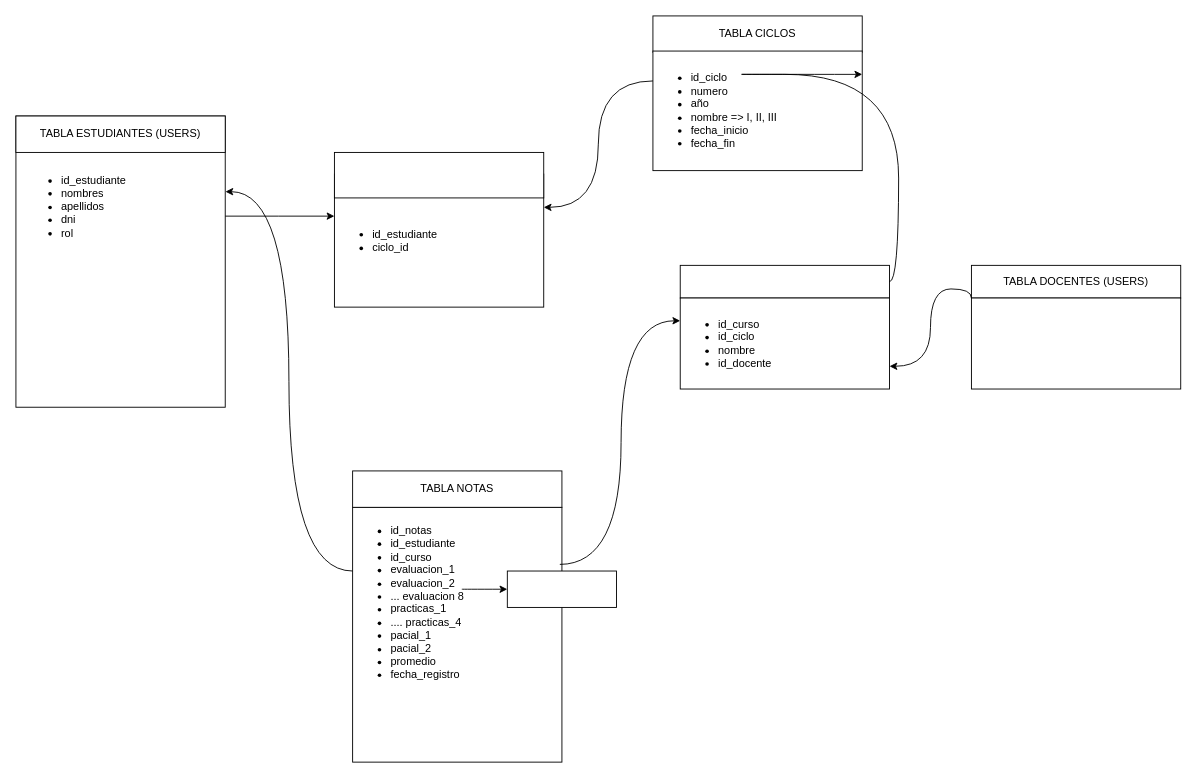
Some shapes in this 1197 by 778 pixel diagram are drawn without their labels. The centre of each missing label's shape, as x and y in pixels:
id_docente nombre dni grado: (x=1076, y=343)
nota: 15 fecha: 13/10/2025: (x=561, y=588)
TABLA CURSOS: (x=784, y=281)
TABLA MATRICULAS: (x=439, y=175)
